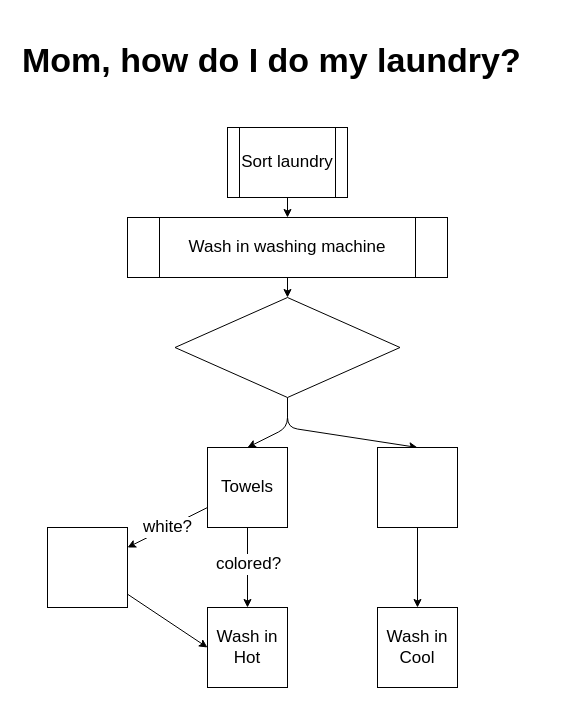
This 564x705 diagram has some shape labels left out. The shapes that lost their labels are listed below. From the top down, each one's centre as x and y in pixels, then its label:
At (x=287, y=347): "What type of clothing?".
At (x=417, y=487): "Uniform".
At (x=87, y=567): "Add bleach".
